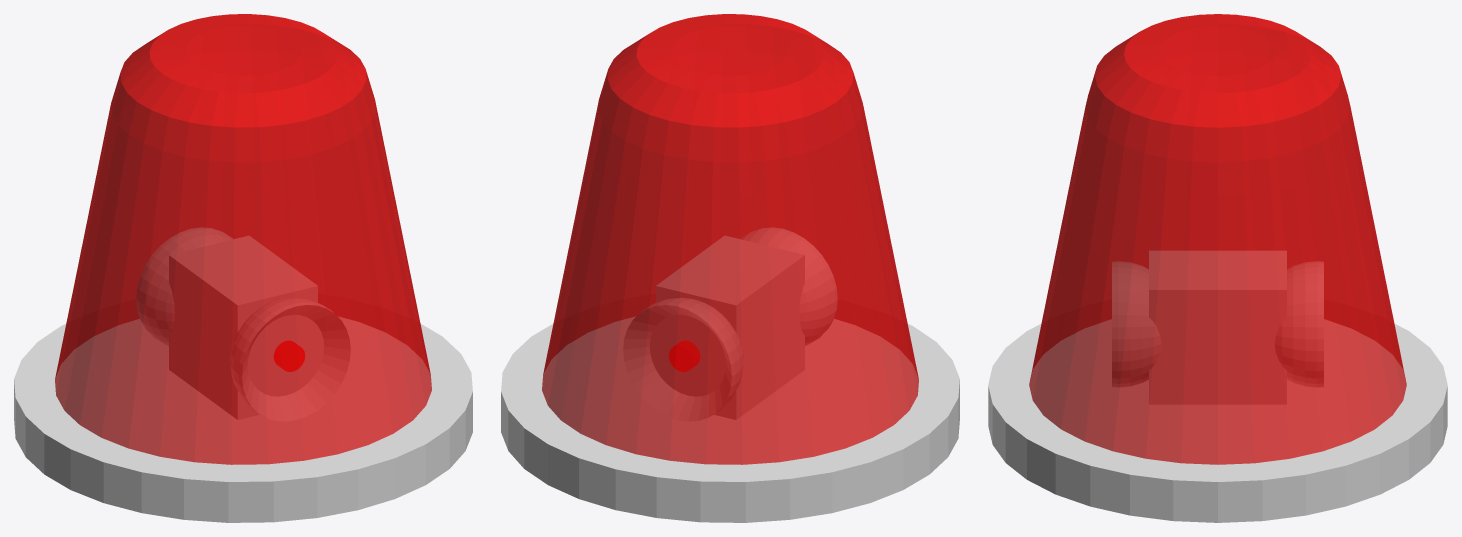
Rendered from alarm_light.glb.
3 views of the same model, side by side, from view 1: azimuth 30°, elevation 25°; view 2: azimuth 150°, elevation 25°; view 3: azimuth 270°, elevation 25° (orthographic).
Visible parts, largest first — view 1: Cylinder.001, Cylinder, Cube, Sphere.001, Sphere, Cylinder.002; view 2: Cylinder.001, Cylinder, Cube, Sphere, Sphere.001, Cylinder.002; view 3: Cylinder.001, Cylinder, Cube, Sphere, Sphere.001.
Boxes of the visible parts, x1,y1,x2,y2 form: Cylinder.001: (55,14,431,464); Cylinder: (14,316,472,522); Cube: (169,236,317,419); Sphere.001: (230,298,350,421); Sphere: (136,227,232,345); Cylinder.002: (274,341,304,371); Cylinder.001: (542,14,918,464); Cylinder: (501,316,959,522); Cube: (656,236,804,419); Sphere: (623,298,743,421); Sphere.001: (741,227,837,345); Cylinder.002: (669,341,699,371); Cylinder.001: (1029,14,1406,464); Cylinder: (988,319,1447,522); Cube: (1149,251,1286,404); Sphere: (1275,261,1323,387); Sphere.001: (1112,261,1160,387).
Bounding box in the file's own units: 2 × 1.8 × 2.
